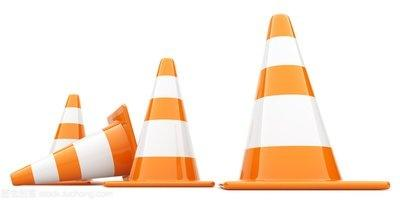cone_barrel: (228, 13, 344, 183), (11, 102, 137, 184), (122, 56, 204, 180), (43, 91, 90, 174)
